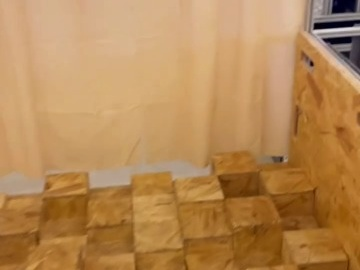curtain: (7, 0, 317, 162)
